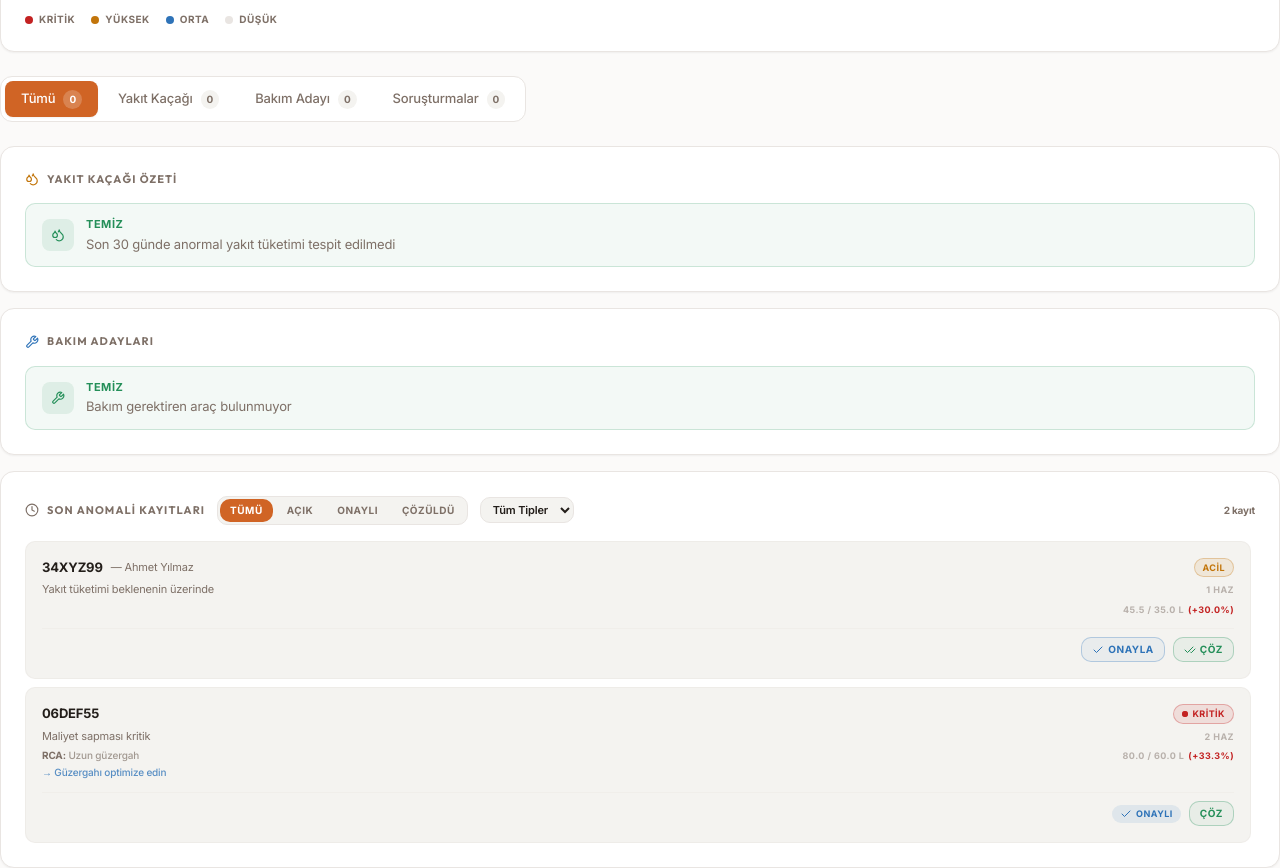
Scenario: AlertsPage (mocked) › opens resolve modal when Çöz button is clicked
(page scrolled)
Click the button "Çöz" below "45.5": (1203, 650) x1=1173 y1=637 x2=1234 y2=662
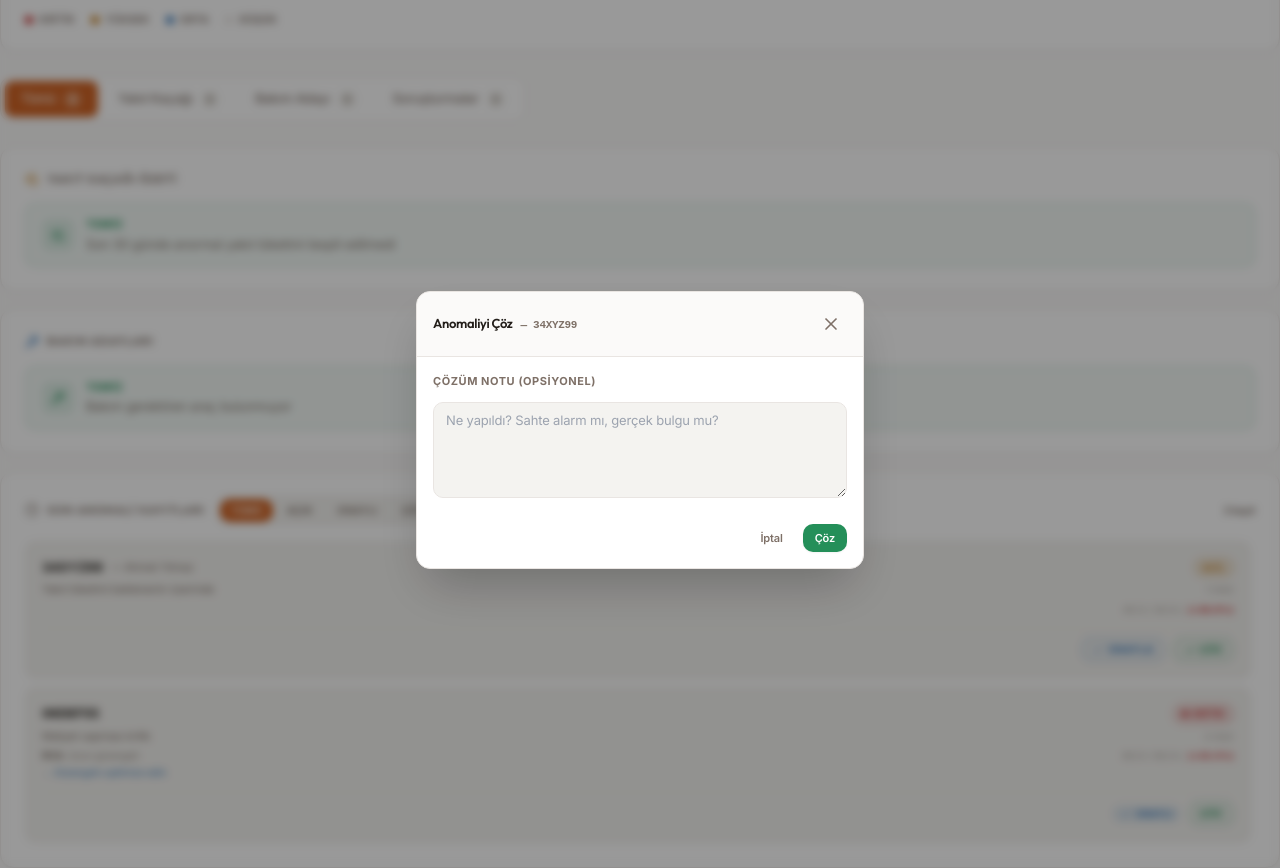
Now the heading "Anomaliyi Çöz— 34XYZ99" is shown, box x1=433 y1=314 x2=577 y2=334
